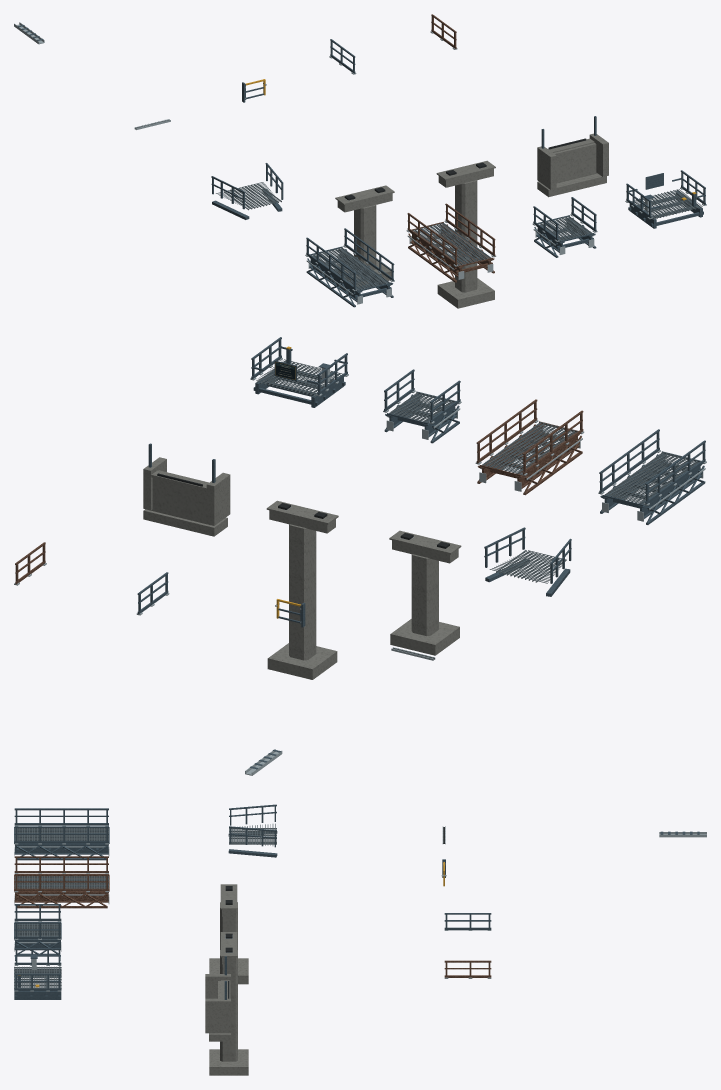
Rendered from PZ_Caldera_13_Module_Inspection_Catalog.glb.
The picture shows the model from 3 angles, top to bottom: view 1: azimuth 30°, elevation 25°; view 2: azimuth 150°, elevation 25°; view 3: azimuth 270°, elevation 25°; orthographic projection. The views are drawn at different scales.
Parts seen in each view (by area): view 1: CAT_Pier_09m_OCTAGONAL_REINFORCED_COLUMN, CAT_EndAbutment_CONCRETE_END_WALL, CAT_Span_06m_HeatWeathered_WALKWAY_TRANSVERSE_SERRATED_CROSS, CAT_Span_06m_Clean_WALKWAY_TRANSVERSE_SERRATED_CROSSBARS, CAT_Pier_06m_OCTAGONAL_REINFORCED_COLUMN, CAT_Pier_09m_SPREAD_FOOTING, CAT_InspectionDeck_04x03m_GRATE_TRANSVERSE_BARS, CAT_FlaredTransition_03m_WIDENED_TRANSVERSE_GRATE_BARS, CAT_Span_06m_HeatWeathered_WALKWAY_LONGITUDINAL_BEARER_BARS, CAT_Span_06m_Clean_WALKWAY_LONGITUDINAL_BEARER_BARS, CAT_EndAbutment_PEDESTAL_BASE, CAT_EndAbutment_SIDE_CHEEK_L (+5 smaller); view 2: CAT_Pier_09m_OCTAGONAL_REINFORCED_COLUMN, CAT_Pier_06m_OCTAGONAL_REINFORCED_COLUMN, CAT_EndAbutment_CONCRETE_END_WALL, CAT_Span_06m_Clean_WALKWAY_TRANSVERSE_SERRATED_CROSSBARS, CAT_Span_06m_HeatWeathered_WALKWAY_TRANSVERSE_SERRATED_CROSS, CAT_Pier_09m_SPREAD_FOOTING, CAT_Pier_06m_SPREAD_FOOTING, CAT_FlaredTransition_03m_WIDENED_TRANSVERSE_GRATE_BARS, CAT_EndAbutment_SIDE_CHEEK_L, CAT_Span_06m_HeatWeathered_WALKWAY_LONGITUDINAL_BEARER_BARS, CAT_Span_06m_Clean_WALKWAY_LONGITUDINAL_BEARER_BARS, CAT_InspectionDeck_04x03m_GRATE_TRANSVERSE_BARS (+4 smaller); view 3: CAT_Pier_09m_OCTAGONAL_REINFORCED_COLUMN, CAT_Span_06m_Clean_WALKWAY_LONGITUDINAL_BEARER_BARS, CAT_Span_06m_HeatWeathered_WALKWAY_LONGITUDINAL_BEARER_BARS, CAT_EndAbutment_SIDE_CHEEK_R, CAT_Pier_09m_SPREAD_FOOTING, CAT_InspectionDeck_04x03m_GRATE_LONGITUDINAL_RUNNERS, CAT_Span_06m_Clean_RIGHT_LONGITUDINAL_I_BEAM_WEB, CAT_FlaredTransition_03m_CENTRAL_LONGITUDINAL_GRATE_RUNNERS, CAT_Span_06m_HeatWeathered_RIGHT_LONGITUDINAL_I_BEAM_WEB, CAT_Span_03m_Clean_WALKWAY_LONGITUDINAL_BEARER_BARS, CAT_Span_06m_HeatWeathered_WALKWAY_TRANSVERSE_SERRATED_CROSS, CAT_Span_06m_Clean_WALKWAY_TRANSVERSE_SERRATED_CROSSBARS (+1 smaller).
Part boxes in pixels (<box>): CAT_Pier_09m_OCTAGONAL_REINFORCED_COLUMN: <box>455,180,477,292</box>; CAT_EndAbutment_CONCRETE_END_WALL: <box>553,143,597,183</box>; CAT_Span_06m_HeatWeathered_WALKWAY_TRANSVERSE_SERRATED_CROSS: <box>412,223,491,265</box>; CAT_Span_06m_Clean_WALKWAY_TRANSVERSE_SERRATED_CROSSBARS: <box>311,247,389,290</box>; CAT_Pier_06m_OCTAGONAL_REINFORCED_COLUMN: <box>354,204,376,269</box>; CAT_Pier_09m_SPREAD_FOOTING: <box>437,278,494,308</box>; CAT_InspectionDeck_04x03m_GRATE_TRANSVERSE_BARS: <box>631,189,702,218</box>; CAT_FlaredTransition_03m_WIDENED_TRANSVERSE_GRATE_BARS: <box>216,182,279,209</box>; CAT_Span_06m_HeatWeathered_WALKWAY_LONGITUDINAL_BEARER_BARS: <box>414,222,490,265</box>; CAT_Span_06m_Clean_WALKWAY_LONGITUDINAL_BEARER_BARS: <box>313,247,389,290</box>; CAT_EndAbutment_PEDESTAL_BASE: <box>537,173,606,197</box>; CAT_EndAbutment_SIDE_CHEEK_L: <box>537,146,556,189</box>; CAT_Pier_09m_OCTAGONAL_REINFORCED_COLUMN: <box>289,524,316,660</box>; CAT_Pier_06m_OCTAGONAL_REINFORCED_COLUMN: <box>411,554,438,636</box>; CAT_EndAbutment_CONCRETE_END_WALL: <box>151,470,208,524</box>; CAT_Span_06m_Clean_WALKWAY_TRANSVERSE_SERRATED_CROSSBARS: <box>605,452,700,503</box>; CAT_Span_06m_HeatWeathered_WALKWAY_TRANSVERSE_SERRATED_CROSS: <box>482,422,577,473</box>; CAT_Pier_09m_SPREAD_FOOTING: <box>267,643,337,679</box>; CAT_Pier_06m_SPREAD_FOOTING: <box>390,619,459,655</box>; CAT_FlaredTransition_03m_WIDENED_TRANSVERSE_GRATE_BARS: <box>489,550,566,583</box>; CAT_EndAbutment_SIDE_CHEEK_L: <box>206,472,230,525</box>; CAT_Span_06m_HeatWeathered_WALKWAY_LONGITUDINAL_BEARER_BARS: <box>481,422,574,474</box>; CAT_Span_06m_Clean_WALKWAY_LONGITUDINAL_BEARER_BARS: <box>604,452,697,504</box>; CAT_InspectionDeck_04x03m_GRATE_TRANSVERSE_BARS: <box>256,359,342,394</box>; CAT_Pier_09m_OCTAGONAL_REINFORCED_COLUMN: <box>220,950,237,1061</box>; CAT_Span_06m_Clean_WALKWAY_LONGITUDINAL_BEARER_BARS: <box>15,828,108,840</box>; CAT_Span_06m_HeatWeathered_WALKWAY_LONGITUDINAL_BEARER_BARS: <box>15,876,108,888</box>; CAT_EndAbutment_SIDE_CHEEK_R: <box>205,998,230,1033</box>; CAT_Pier_09m_SPREAD_FOOTING: <box>209,1049,248,1075</box>; CAT_InspectionDeck_04x03m_GRATE_LONGITUDINAL_RUNNERS: <box>14,967,61,989</box>; CAT_Span_06m_Clean_RIGHT_LONGITUDINAL_I_BEAM_WEB: <box>15,845,108,853</box>; CAT_FlaredTransition_03m_CENTRAL_LONGITUDINAL_GRATE_RUNNERS: <box>229,828,276,844</box>; CAT_Span_06m_HeatWeathered_RIGHT_LONGITUDINAL_I_BEAM_WEB: <box>15,893,108,900</box>; CAT_Span_03m_Clean_WALKWAY_LONGITUDINAL_BEARER_BARS: <box>15,923,60,939</box>; CAT_Span_06m_HeatWeathered_WALKWAY_TRANSVERSE_SERRATED_CROSS: <box>14,876,104,888</box>; CAT_Span_06m_Clean_WALKWAY_TRANSVERSE_SERRATED_CROSSBARS: <box>14,828,104,840</box>.
Bounding box in the file's own units: 25.3 × 10.78 × 43.5.
8 materials, 8 textured.
